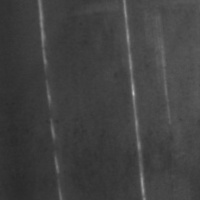scratches: (115, 0, 152, 198), (33, 4, 68, 199)
